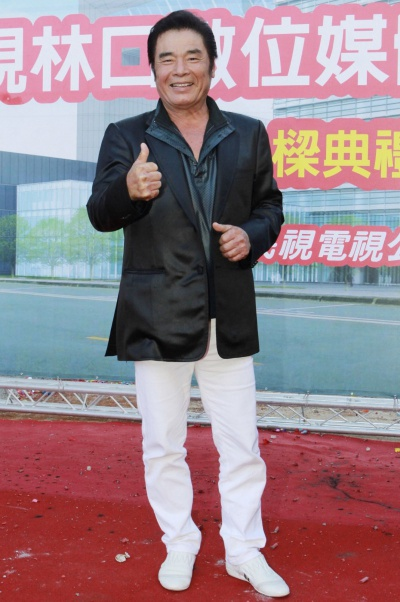male: (135, 2, 236, 120)
